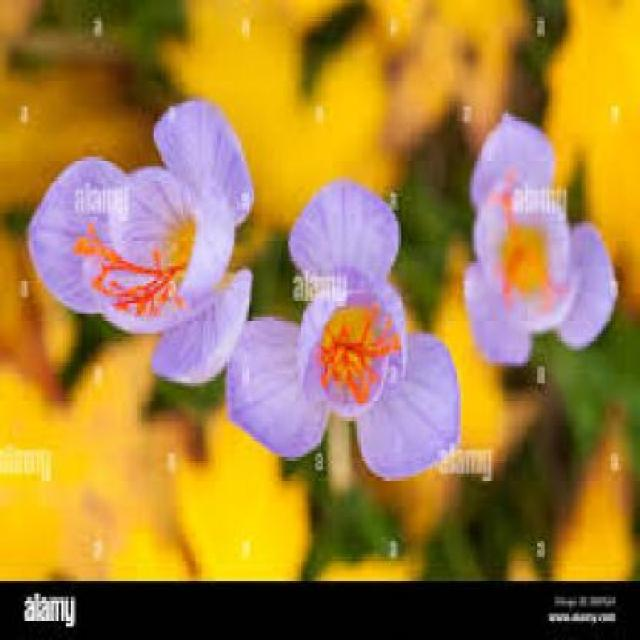Flower: (226, 180, 460, 483), (26, 96, 252, 387), (462, 114, 618, 363)
